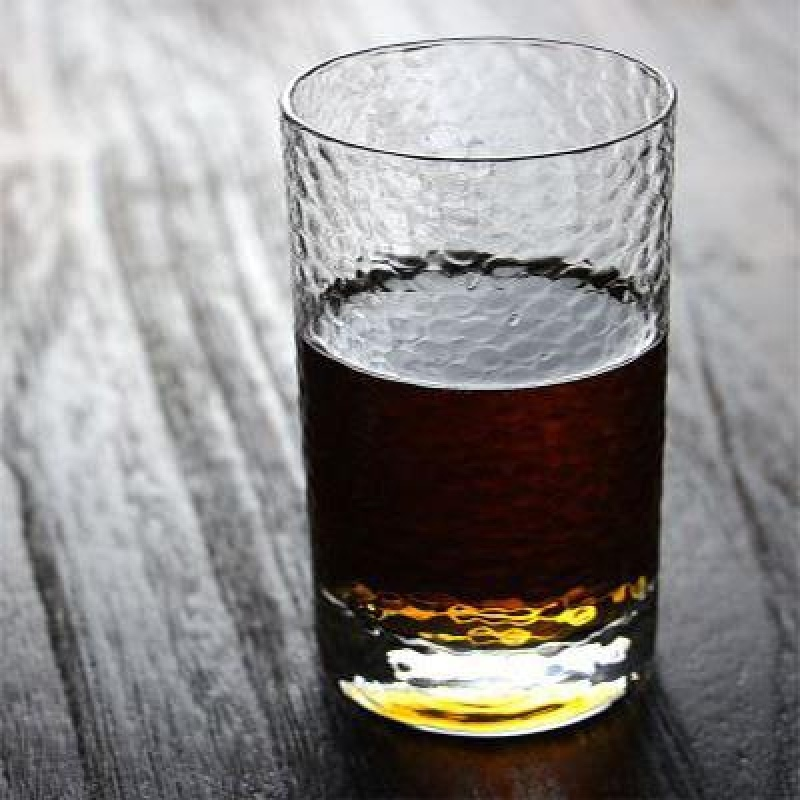whiskey: (284, 38, 676, 721)
